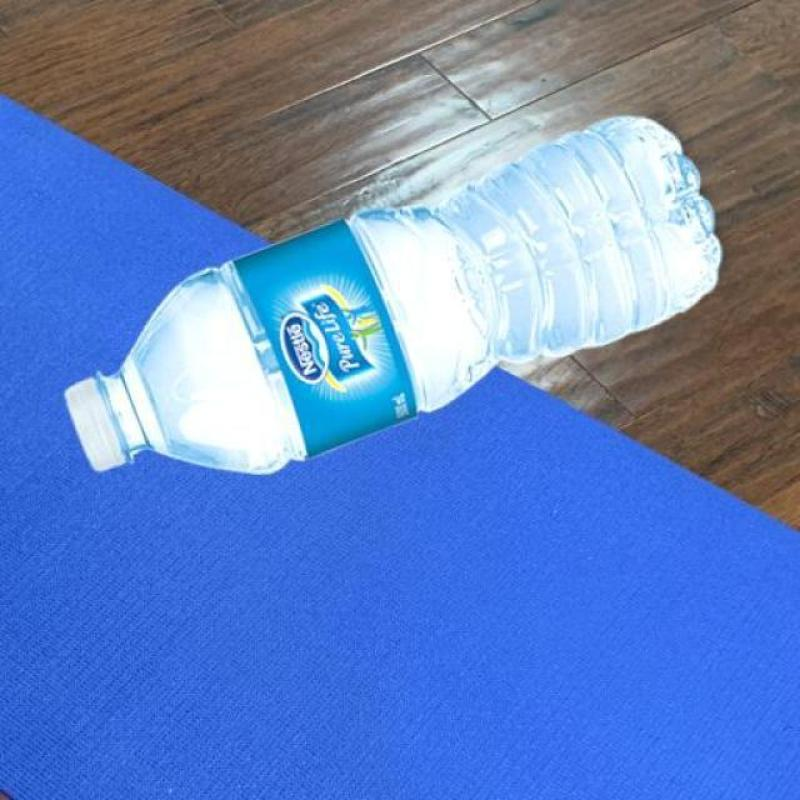botella: (61, 117, 727, 477)
